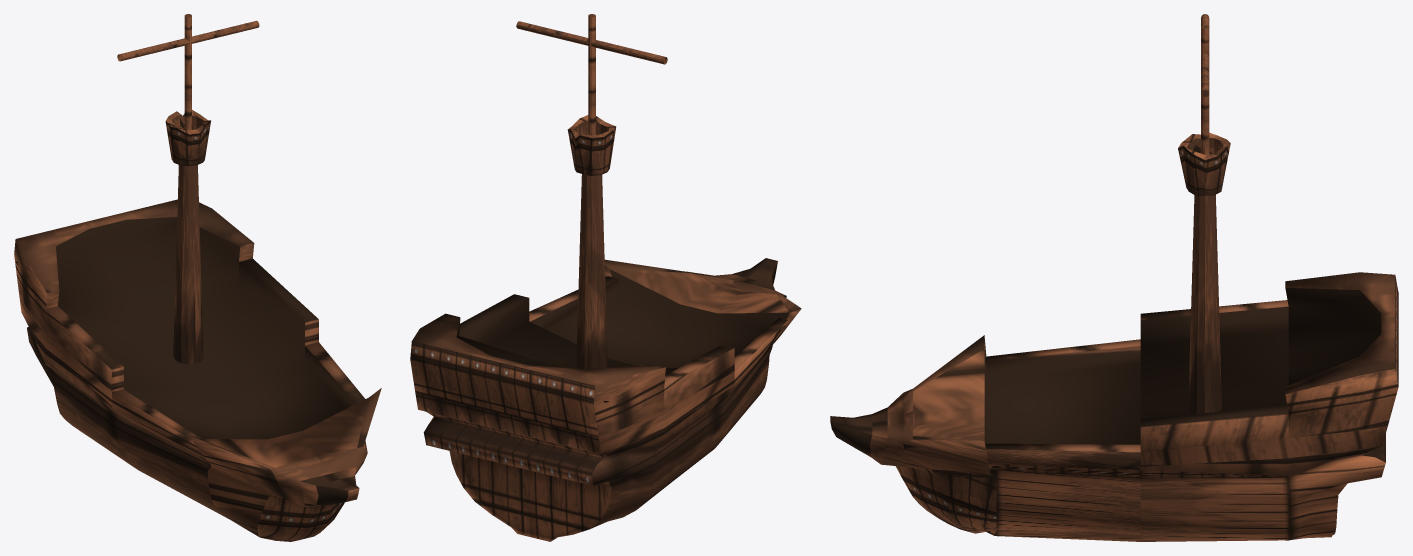
File: boat.glb
3 renders of one model, left to right at view 1: azimuth 30°, elevation 25°; view 2: azimuth 150°, elevation 25°; view 3: azimuth 270°, elevation 25°, orthographic. The views are drawn at different scales.
Visible parts, largest first — view 1: Cylinder.001; view 2: Cylinder.001; view 3: Cylinder.001.
Part boxes in pixels (box(x1,y1,x2,y2)): Cylinder.001: box(14, 14, 381, 541); Cylinder.001: box(410, 14, 801, 541); Cylinder.001: box(830, 14, 1398, 541).
Bounding box in the file's own units: 5.76 × 12.01 × 12.23.
Materials: 1 (1 with a texture image).
